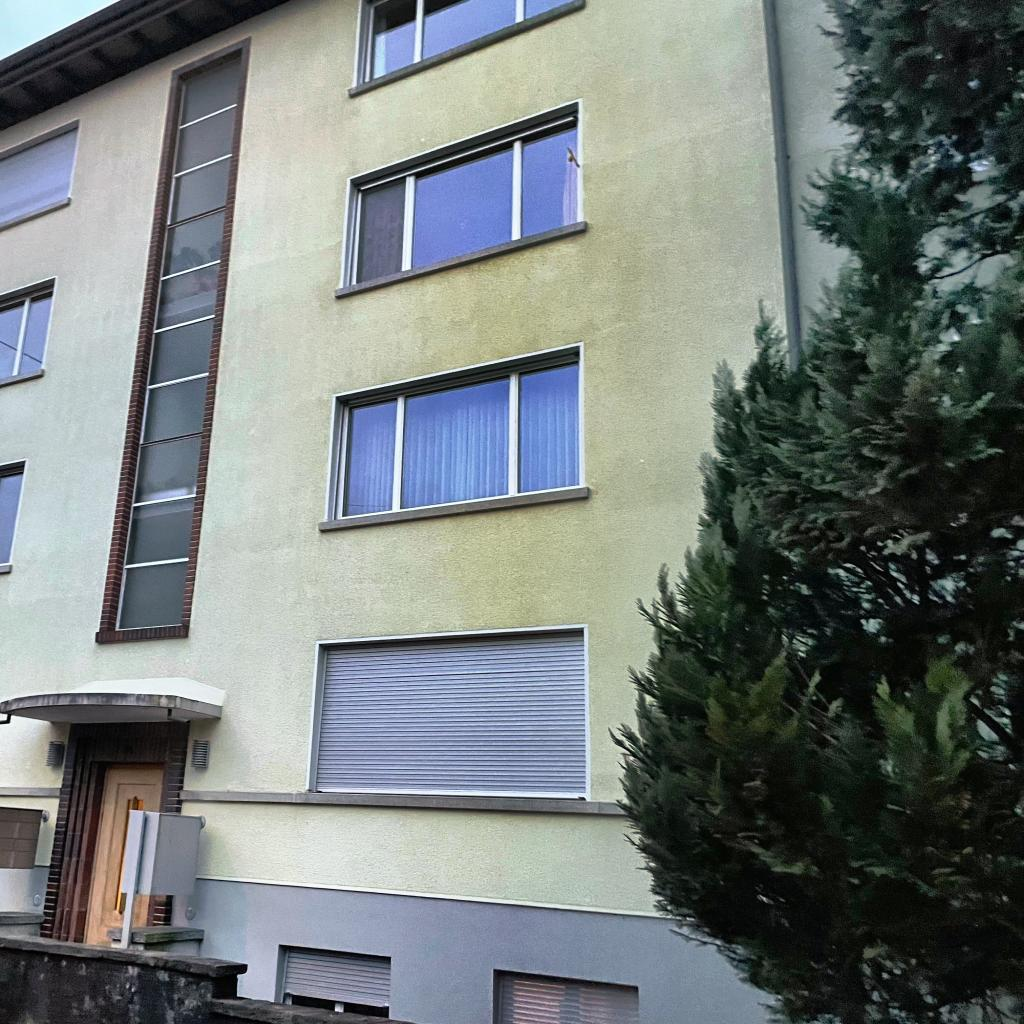facade: (0, 0, 1024, 1024)
fence: (0, 911, 418, 1024)
vegetation: (605, 0, 1024, 1024)
window: (114, 56, 241, 631), (315, 631, 585, 801), (334, 352, 580, 521), (347, 110, 576, 287), (353, 0, 580, 87), (0, 126, 79, 227), (282, 947, 390, 1019), (497, 972, 638, 1024), (0, 283, 54, 380), (0, 465, 24, 565)
